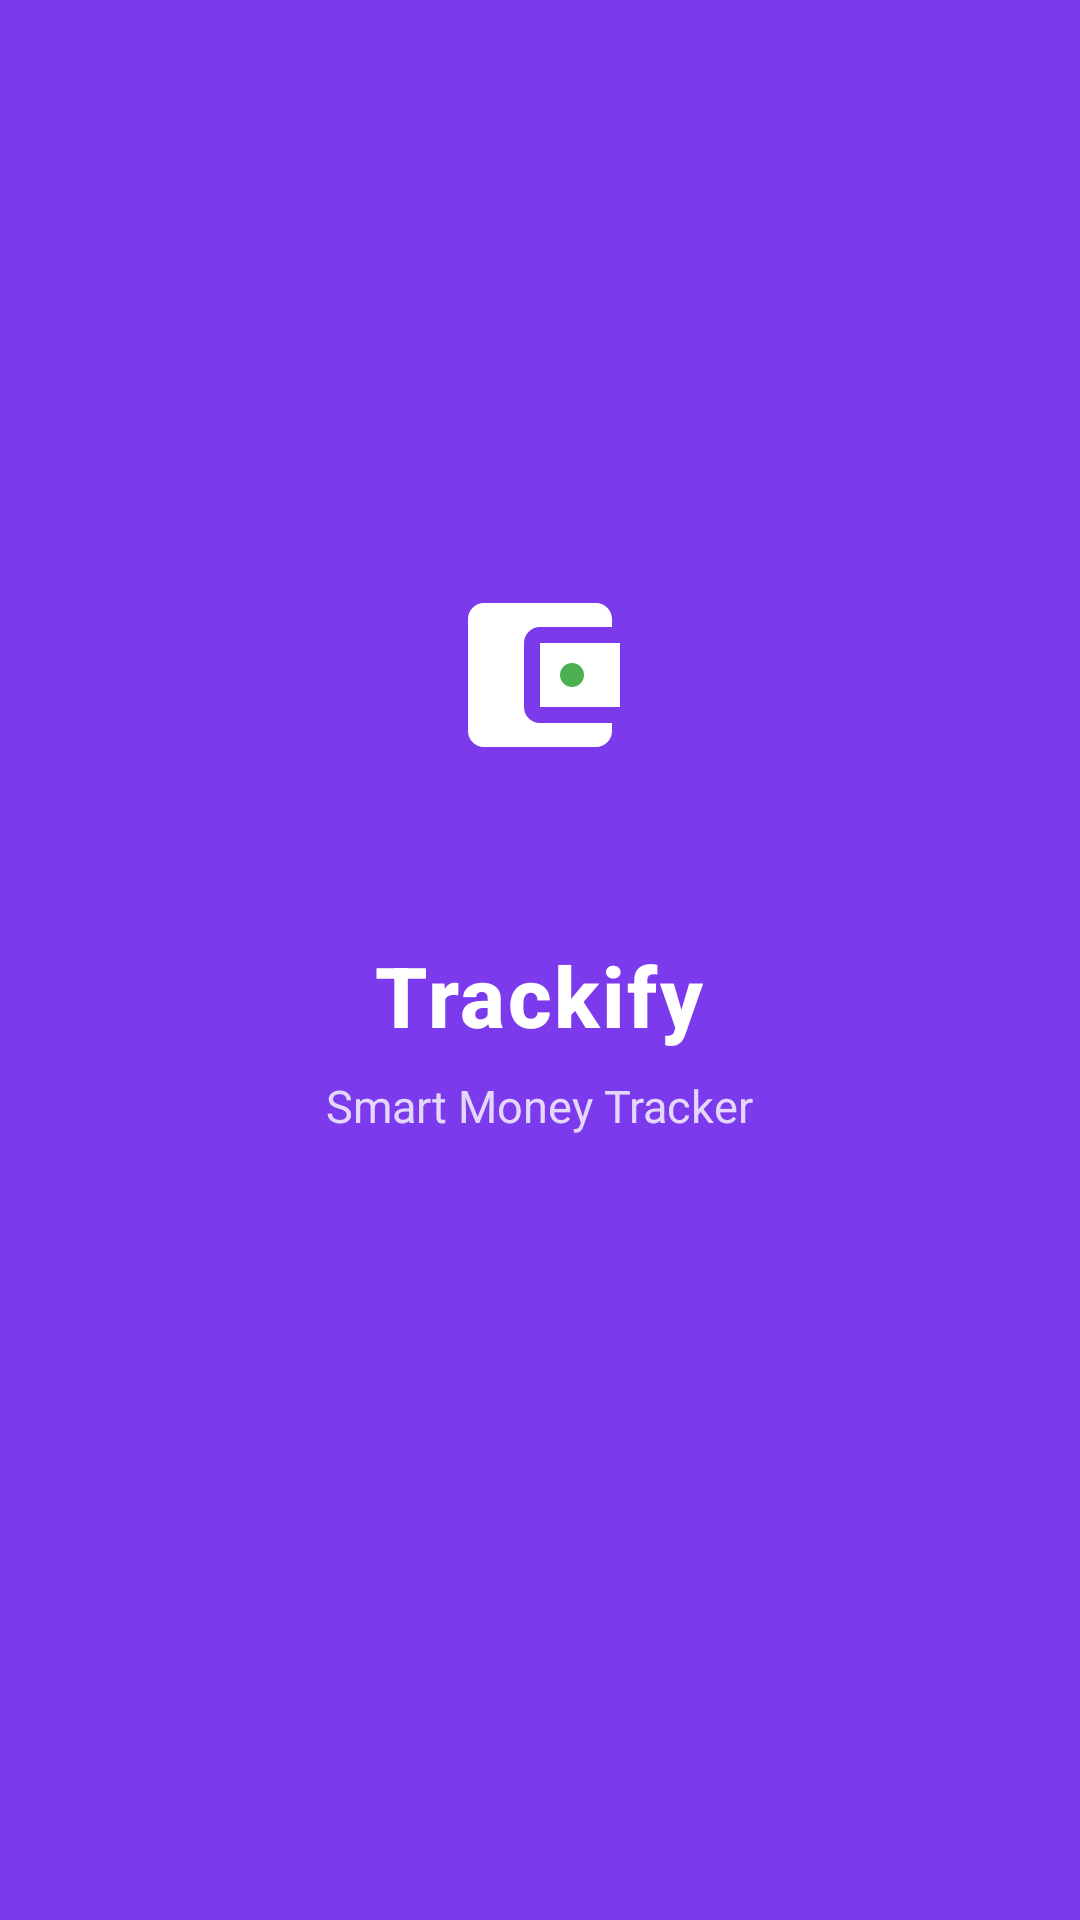

Screen size 1080 × 1920. Icon name, then its box in pixels as (x1, y1, x2, y2):
wallet: (468, 603, 620, 747)
